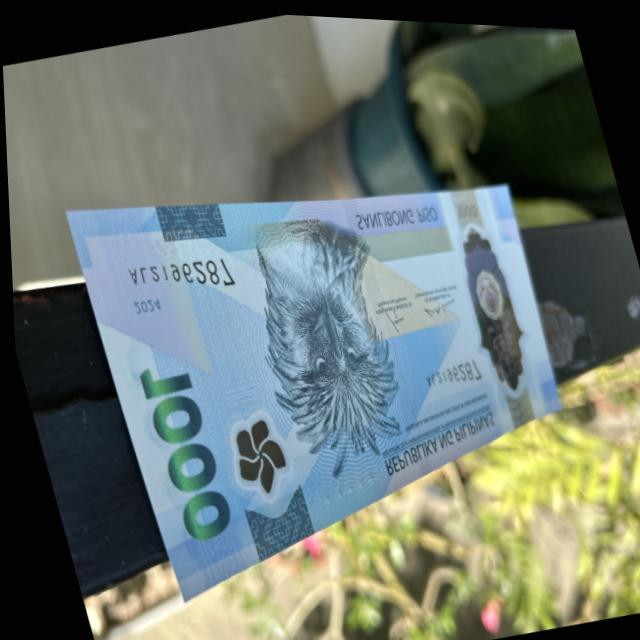eagle: (226, 204, 416, 482)
sampaguita: (218, 404, 293, 509)
serial_number: (107, 234, 240, 319), (403, 343, 485, 399)
value: (125, 345, 243, 557), (441, 207, 537, 391)
